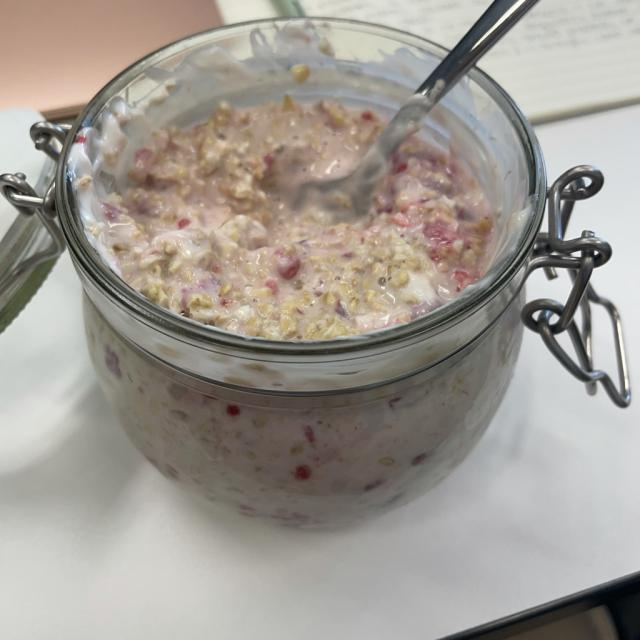birchermuesli-prepared-no-sugar-added: (118, 110, 503, 338)
